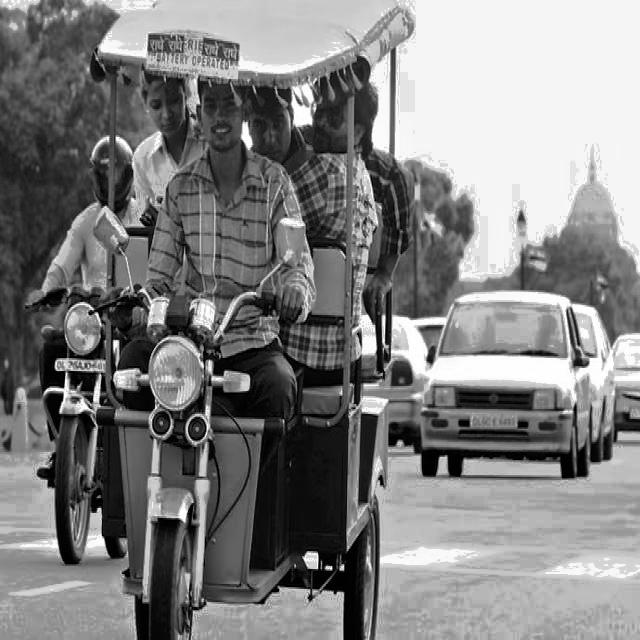Toto: (115, 1, 408, 640)
